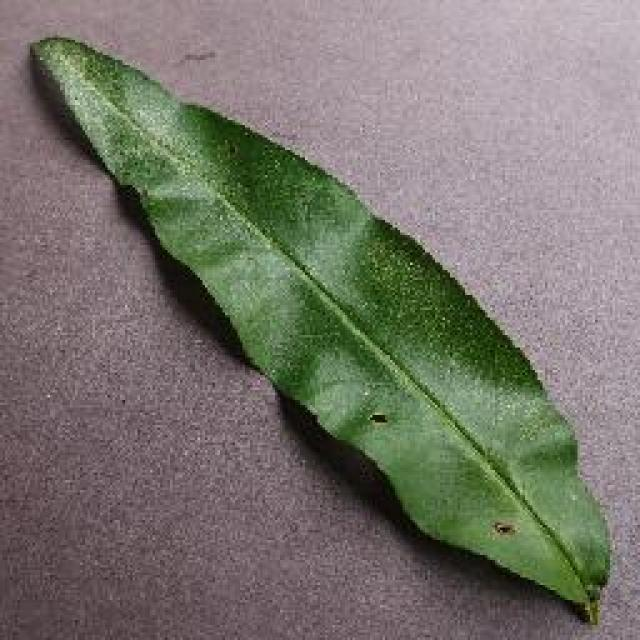Peach_Bacterial_Spot: (248, 215, 584, 555)
